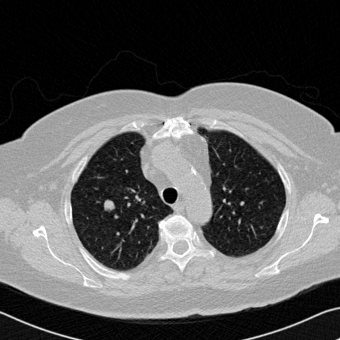nodule: (102, 199, 114, 211)
